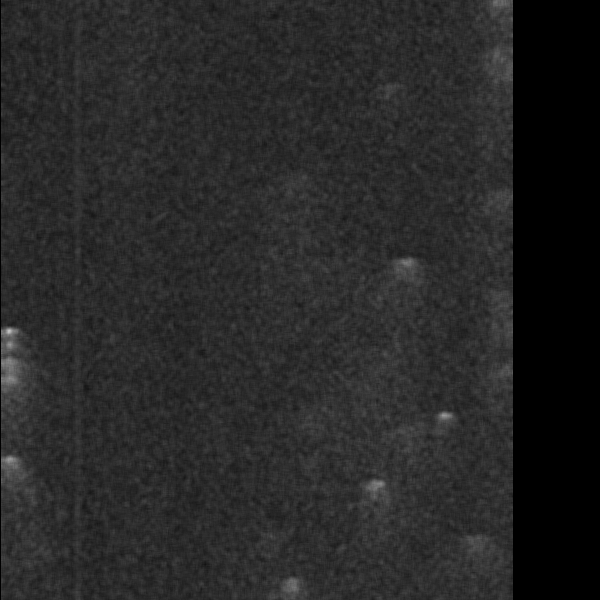spark: (143, 510, 180, 549), (136, 58, 178, 92)
